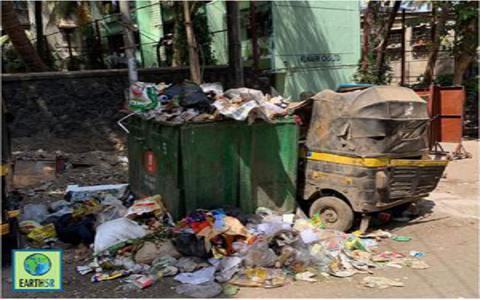overflowing garbage: (120, 82, 305, 273)
